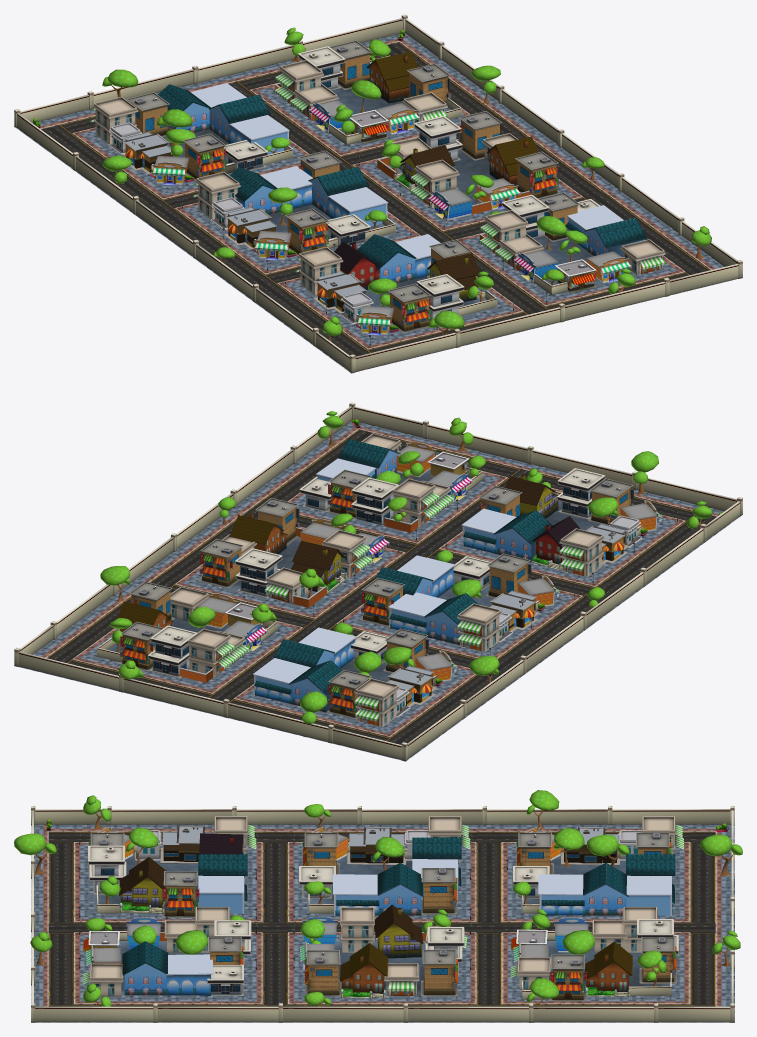
The model's file is city_01.fbx.
3 renders of one model, top to bottom at view 1: azimuth 30°, elevation 25°; view 2: azimuth 150°, elevation 25°; view 3: azimuth 270°, elevation 25°, orthographic. The views are drawn at different scales.
Visible parts, largest first — view 1: Base, polySurface8, polySurface9, polySurface7, Building_102, Building_40, Building_61, Building_35, Building_65, Building_97, Building_30, Building_60 (+45 smaller); view 2: Base, polySurface8, polySurface9, polySurface7, Building_61, Building_35, Building_97, Building_102, Building_40, Building_65, Building_29, Building_46 (+46 smaller); view 3: Base, polySurface9, polySurface8, polySurface7, Building_65, Building_102, Building_40, Building_97, Building_61, Building_27, Building_30, Building_28 (+61 smaller).
Part boxes in pixels (x1=…): Base: x1=41, y1=42, x2=709, y2=356; polySurface8: x1=14, y1=109, x2=742, y2=373; polySurface9: x1=20, y1=14, x2=737, y2=266; polySurface7: x1=15, y1=33, x2=737, y2=372; Building_102: x1=209, y1=94, x2=290, y2=154; Building_40: x1=308, y1=166, x2=388, y2=226; Building_61: x1=357, y1=234, x2=440, y2=283; Building_35: x1=229, y1=166, x2=313, y2=214; Building_65: x1=565, y1=205, x2=646, y2=257; Building_97: x1=157, y1=83, x2=246, y2=132; Building_30: x1=366, y1=51, x2=418, y2=103; Building_60: x1=388, y1=283, x2=431, y2=333; Base: x1=47, y1=430, x2=715, y2=744; polySurface8: x1=349, y1=402, x2=742, y2=761; polySurface9: x1=14, y1=406, x2=401, y2=759; polySurface7: x1=18, y1=421, x2=741, y2=760; Building_61: x1=461, y1=508, x2=552, y2=562; Building_35: x1=388, y1=592, x2=478, y2=645; Building_97: x1=253, y1=658, x2=342, y2=712; Building_102: x1=273, y1=627, x2=356, y2=668; Building_40: x1=375, y1=555, x2=455, y2=597; Building_65: x1=316, y1=439, x2=400, y2=481; Building_29: x1=291, y1=540, x2=346, y2=594; Building_46: x1=456, y1=603, x2=502, y2=651; Base: x1=48, y1=832, x2=715, y2=1006; polySurface9: x1=35, y1=810, x2=734, y2=1022; polySurface8: x1=31, y1=806, x2=734, y2=1022; polySurface7: x1=31, y1=824, x2=734, y2=1022; Building_65: x1=122, y1=941, x2=212, y2=995; Building_102: x1=538, y1=863, x2=628, y2=915; Building_40: x1=332, y1=862, x2=423, y2=915; Building_97: x1=626, y1=854, x2=675, y2=915; Building_61: x1=198, y1=854, x2=247, y2=913; Building_27: x1=340, y1=943, x2=388, y2=998; Building_30: x1=585, y1=941, x2=632, y2=997; Building_28: x1=119, y1=857, x2=166, y2=913.
Bounding box in the file's own units: 87.72 × 8.22 × 134.
